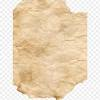crumpled paper: (12, 1, 90, 99)
